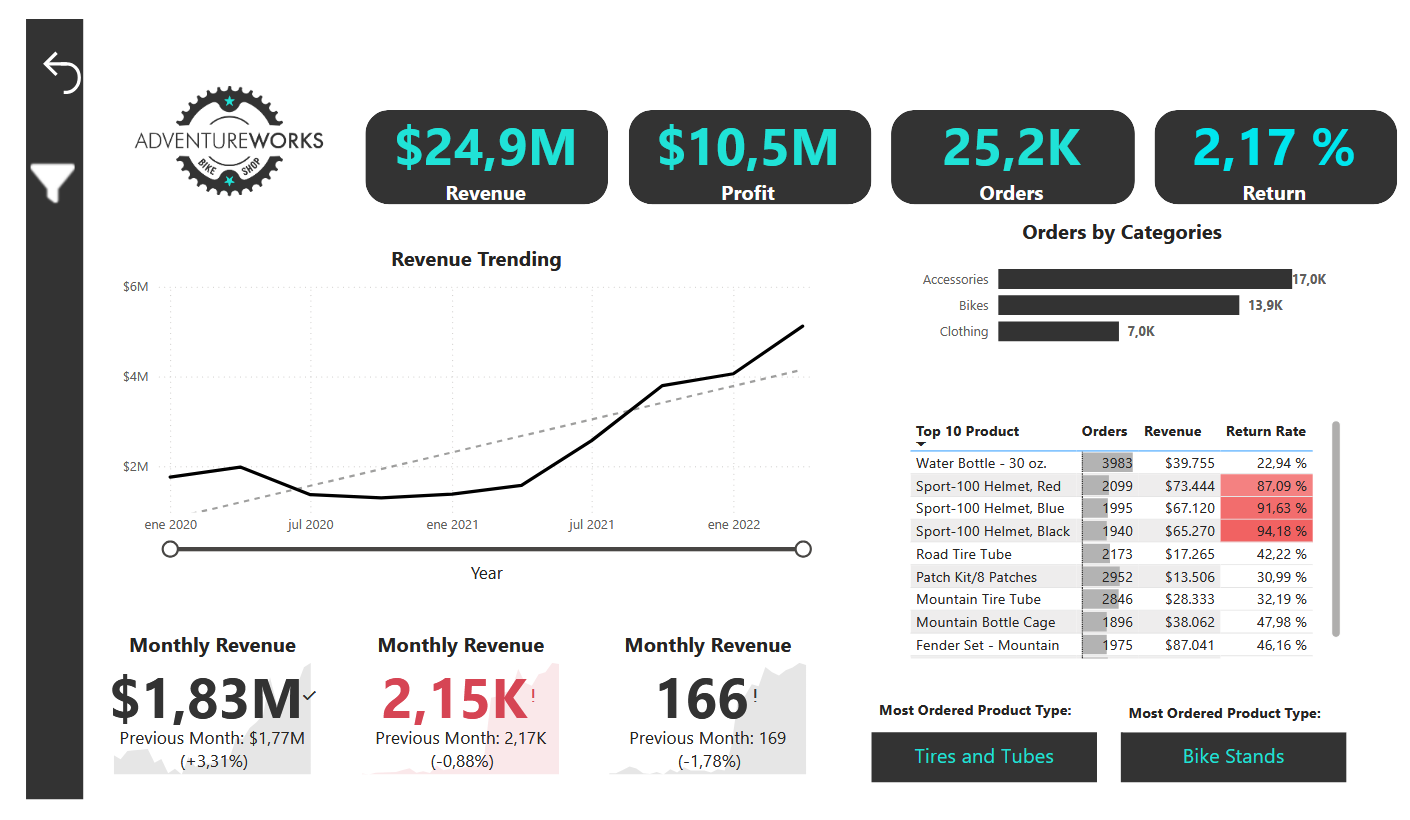

Layout of this report page (visuals, bound fields, positions):
{"tool":"powerbi","page":{"name":"Dasboard","canvas":[1280,720],"ordinal":0},"visuals":[{"type":"image","title":"AW Logo","box":[75.9,0,222.7,223.9],"z":0},{"type":"card","fields":{"Values":["Measure Table.Total Revenue"]},"box":[328.4,70.9,191.6,112],"z":0,"group":"g2"},{"type":"group","id":"g1","title":"KPI","box":[313.2,83.6,952.2,87.2],"z":0,"group":"g3"},{"type":"shape","box":[555.8,83.6,224.3,87.2],"z":0,"group":"g1"},{"type":"group","id":"g2","title":"Cards KPI","box":[328.4,70.9,919.3,112],"z":1000,"group":"g3"},{"type":"card","fields":{"Values":["Measure Table.Total Profit"]},"box":[554.8,70.9,223.9,112],"z":1000,"group":"g2"},{"type":"shape","box":[313.2,83.6,224.3,87.2],"z":1000,"group":"g1"},{"type":"actionButton","box":[0,182.8,97,49.8],"z":1000},{"type":"card","fields":{"Values":["Measure Table.Total Orders"]},"box":[813.5,70.9,191.6,112],"z":2000,"group":"g2"},{"type":"shape","box":[798.5,83.6,224.3,87.2],"z":2000,"group":"g1"},{"type":"card","fields":{"Values":["Min(Product Subcategories Lookup.SubcategoryName)"]},"box":[780.3,657.8,208,46.2],"z":2000},{"type":"card","fields":{"Values":["Measure Table.Return Rate"]},"box":[1056.1,70.9,191.6,112],"z":3000,"group":"g2"},{"type":"shape","box":[1041.1,83.6,224.3,87.2],"z":3000,"group":"g1"},{"type":"actionButton","box":[0,289.8,97,49.8],"z":3000},{"type":"card","fields":{"Values":["Min(Product Subcategories Lookup.SubcategoryName)"]},"box":[1009.8,657.8,208,46.2],"z":4000},{"type":"actionButton","box":[0,236.3,97,49.8],"z":5000},{"type":"shape","title":"Left Nav Background","box":[0,0,53,720.4],"z":6000},{"type":"actionButton","box":[0,126.7,97.7,48.9],"z":7000},{"type":"textbox","box":[782.1,622.9,206.2,32],"z":8000},{"type":"textbox","box":[1011.6,625.8,206.2,32],"z":9000},{"type":"group","id":"g3","title":"Group 1","box":[313.2,70.9,952.2,112],"z":10000},{"type":"lineChart","title":"Revenue Trending","fields":{"Y":["Measure Table.Total Revenue"],"Category":["Calendar Lookup.Start of Month.Variation.Date Hierarchy.Year","Calendar Lookup.Start of Month.Variation.Date Hierarchy.Quarter"]},"box":[83.6,208,663.1,312.9],"z":11000},{"type":"kpi","title":"Monthly Revenue ","fields":{"Indicator":["Measure Table.Total Revenue"],"Goal":["Measure Table.Previous Month Revenue"],"TrendLine":["Calendar Lookup.Start of Month"]},"box":[76.4,563.6,192,138.7],"z":12000},{"type":"kpi","title":"Monthly Revenue ","fields":{"TrendLine":["Calendar Lookup.Start of Month"],"Indicator":["Measure Table.Total Orders"],"Goal":["Measure Table.Previous Month Orders"]},"box":[304.9,563.6,192,138.7],"z":13000},{"type":"kpi","title":"Monthly Revenue ","fields":{"TrendLine":["Calendar Lookup.Start of Month"],"Indicator":["Measure Table.Total Returns"],"Goal":["Measure Table.Previous Month Returns"]},"box":[533.3,563.6,192,138.7],"z":14000},{"type":"barChart","title":"Orders by Categories","fields":{"Y":["Measure Table.Total Orders"],"Category":["Product Categories Lookup.CategoryName"]},"box":[817.3,183.1,387.7,129.7],"z":15000},{"type":"tableEx","fields":{"Values":["Product Lookup.ProductName","Measure Table.Total Orders","Measure Table.Total Revenue","Measure Table.Return Rate"]},"box":[810.1,364.7,407.9,230.6],"z":16000},{"type":"actionButton","box":[0,16.3,76,67],"z":17000}]}

Visuals, with their boxes on the page's 1280x720 design canvas (x1, y1, x2, y2). These are canvas units, not pixel positions in the 1410x820 screenshot, which may show the page scaled, cropped or inside an application window:
"AW Logo" image: l=76, t=0, r=299, b=224
card - Measure Table.Total Revenue: l=328, t=71, r=520, b=183
"KPI" group: l=313, t=84, r=1265, b=171
shape: l=556, t=84, r=780, b=171
"Cards KPI" group: l=328, t=71, r=1248, b=183
card - Measure Table.Total Profit: l=555, t=71, r=779, b=183
shape: l=313, t=84, r=538, b=171
actionButton: l=0, t=183, r=97, b=233
card - Measure Table.Total Orders: l=814, t=71, r=1005, b=183
shape: l=798, t=84, r=1023, b=171
card - Min(Product Subcategories Lookup.SubcategoryName): l=780, t=658, r=988, b=704
card - Measure Table.Return Rate: l=1056, t=71, r=1248, b=183
shape: l=1041, t=84, r=1265, b=171
actionButton: l=0, t=290, r=97, b=340
card - Min(Product Subcategories Lookup.SubcategoryName): l=1010, t=658, r=1218, b=704
actionButton: l=0, t=236, r=97, b=286
"Left Nav Background" shape: l=0, t=0, r=53, b=720
actionButton: l=0, t=127, r=98, b=176
textbox: l=782, t=623, r=988, b=655
textbox: l=1012, t=626, r=1218, b=658
"Group 1" group: l=313, t=71, r=1265, b=183
"Revenue Trending" lineChart: l=84, t=208, r=747, b=521
"Monthly Revenue " kpi: l=76, t=564, r=268, b=702
"Monthly Revenue " kpi: l=305, t=564, r=497, b=702
"Monthly Revenue " kpi: l=533, t=564, r=725, b=702
"Orders by Categories" barChart: l=817, t=183, r=1205, b=313
tableEx - Product Lookup.ProductName x Measure Table.Total Orders: l=810, t=365, r=1218, b=595
actionButton: l=0, t=16, r=76, b=83
